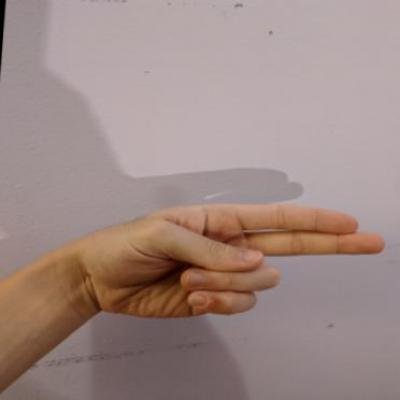hand: (77, 188, 393, 337)
